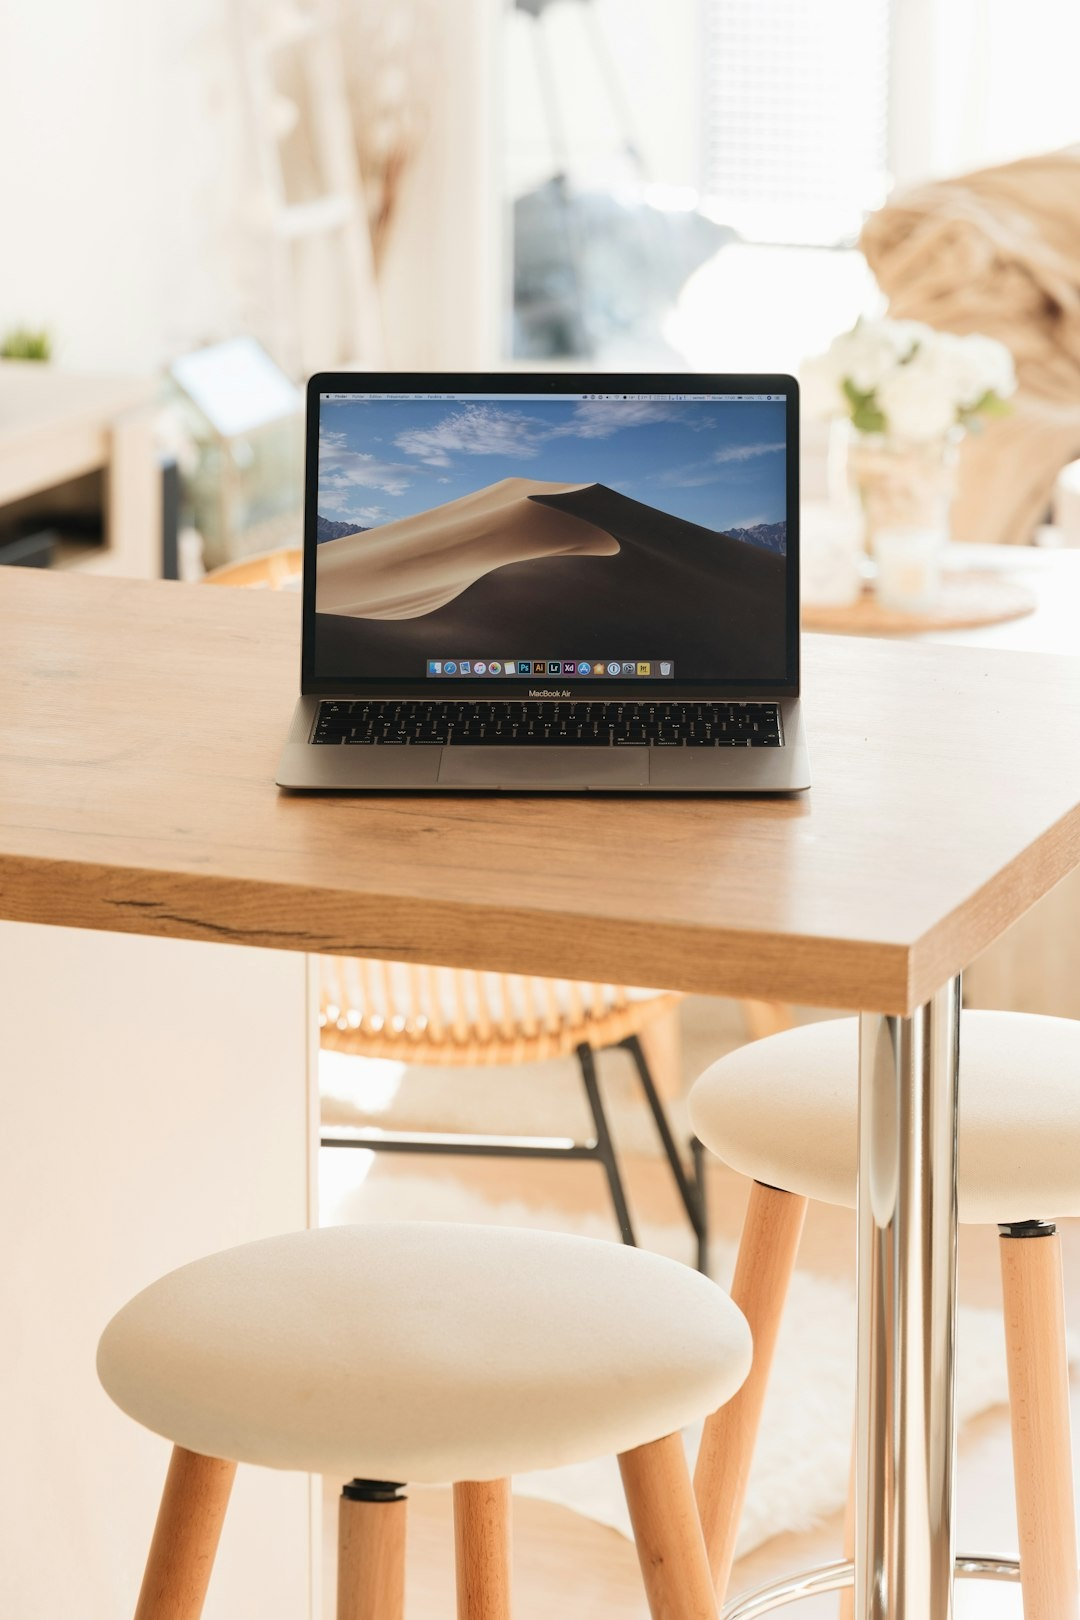laptop: (240, 325, 835, 832)
